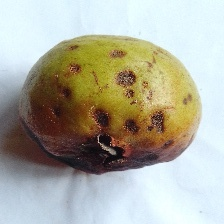guava: (27, 13, 193, 206)
